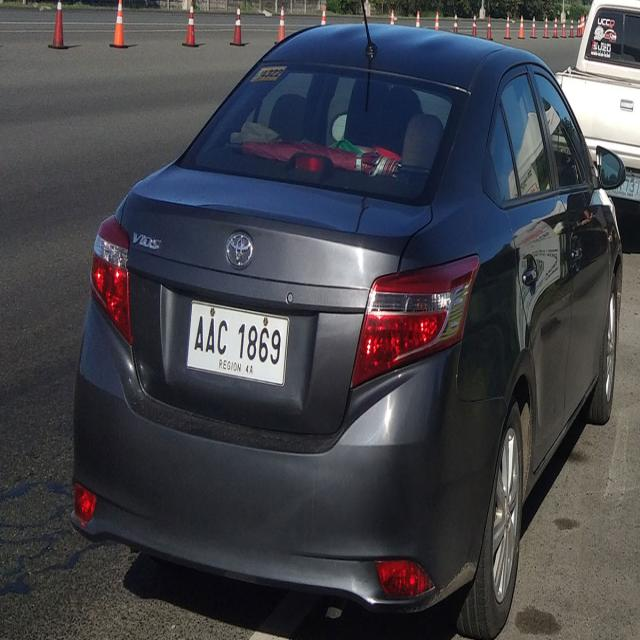number: (188, 301, 289, 386)
